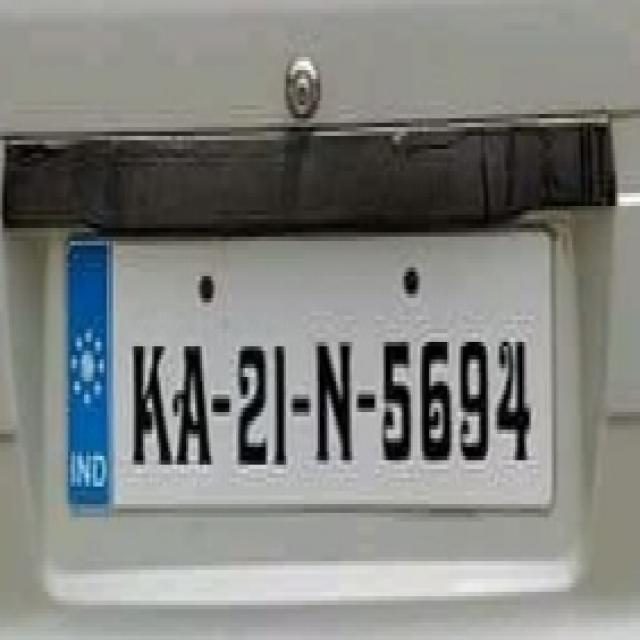1: (272, 330, 292, 482)
4: (495, 327, 535, 473)
5: (377, 322, 419, 470)
6: (416, 323, 458, 468)
9: (454, 317, 496, 473)
A: (171, 331, 215, 476)
K: (126, 332, 174, 469)
N: (310, 320, 360, 468)
